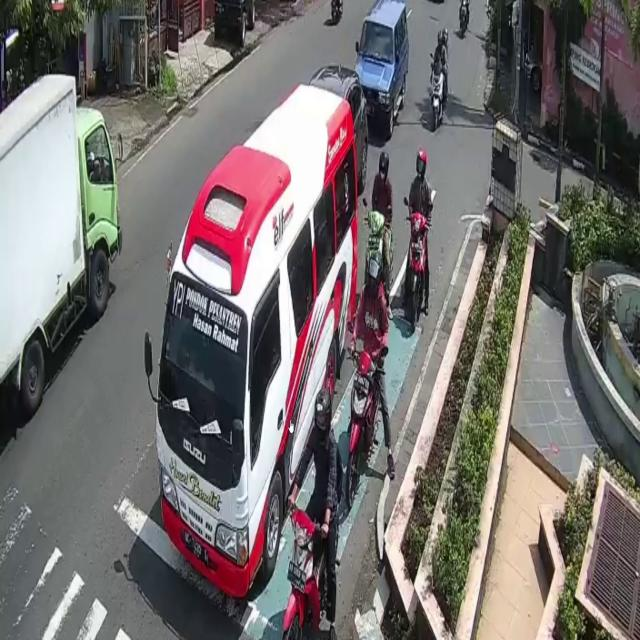bus: (157, 82, 358, 594)
car: (312, 62, 370, 184), (358, 0, 414, 121)
motorbike: (285, 501, 332, 640), (349, 347, 380, 502), (363, 209, 390, 312), (409, 216, 427, 329), (430, 62, 445, 136)
truck: (0, 69, 126, 443)
